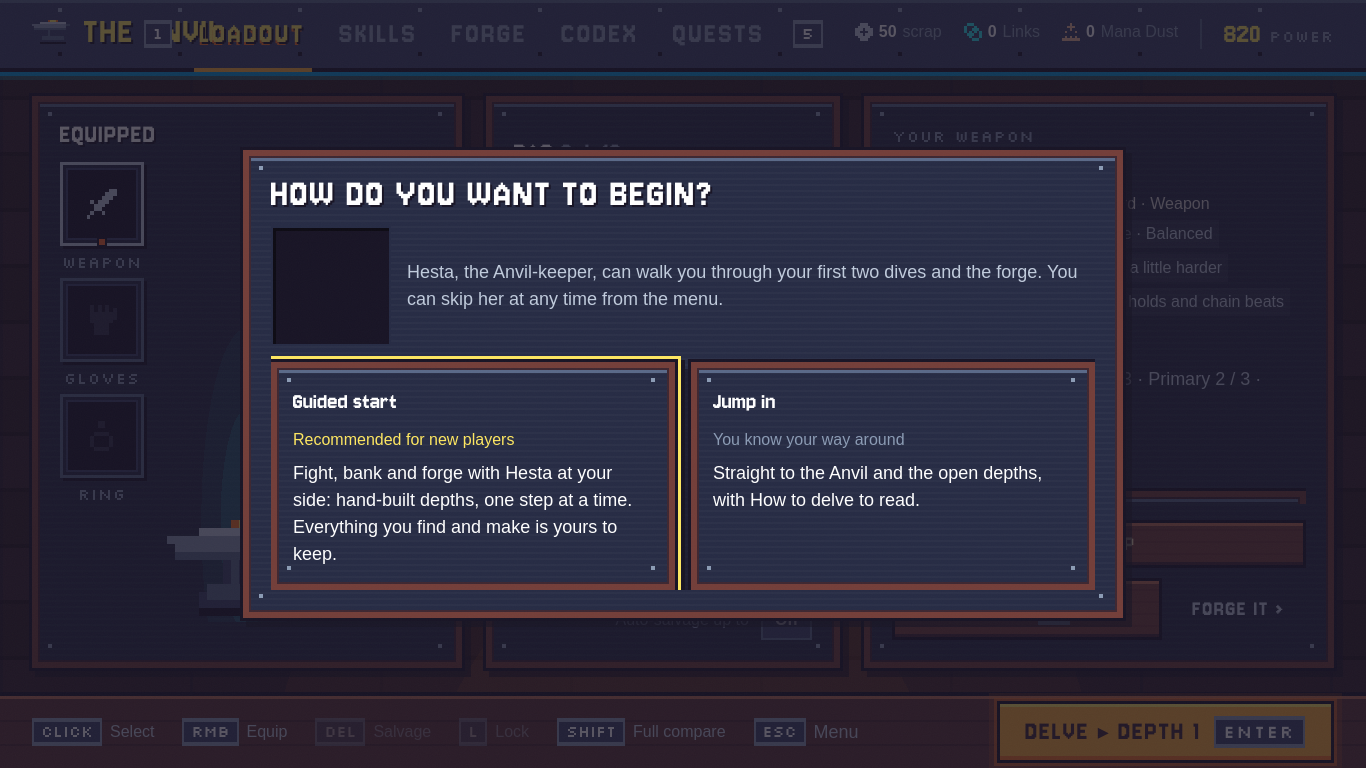
Test: GuidedChoice › Jump in leaves the save as it is and goes on to the mana choice, then How to delve
Step 1. Click the button with test id "guided-jump" → click(893, 476), box [691,362,1095,590]
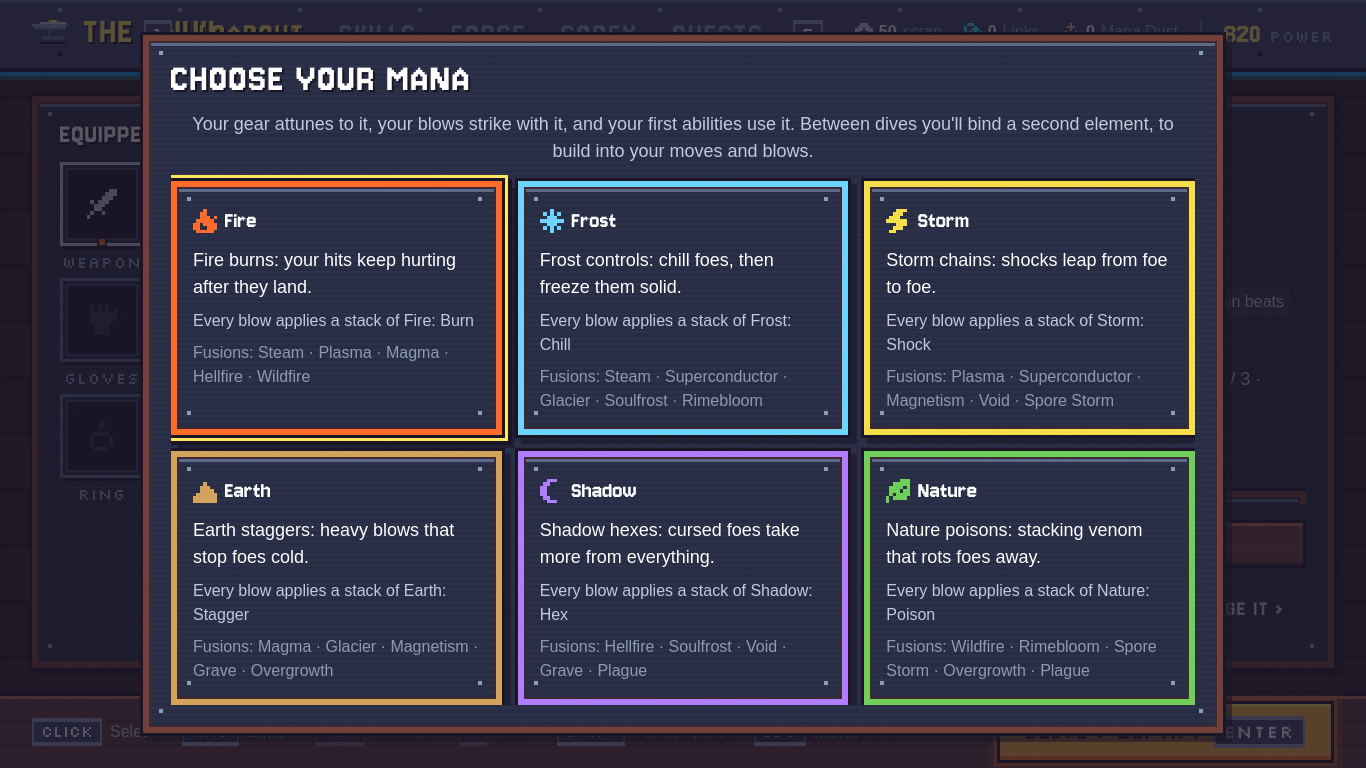
Check: the dialog with test id "guided-choice" is gone
Step 2. Click the button with test id "mana-choice-fire" → click(241, 220), box [171,181,502,435]
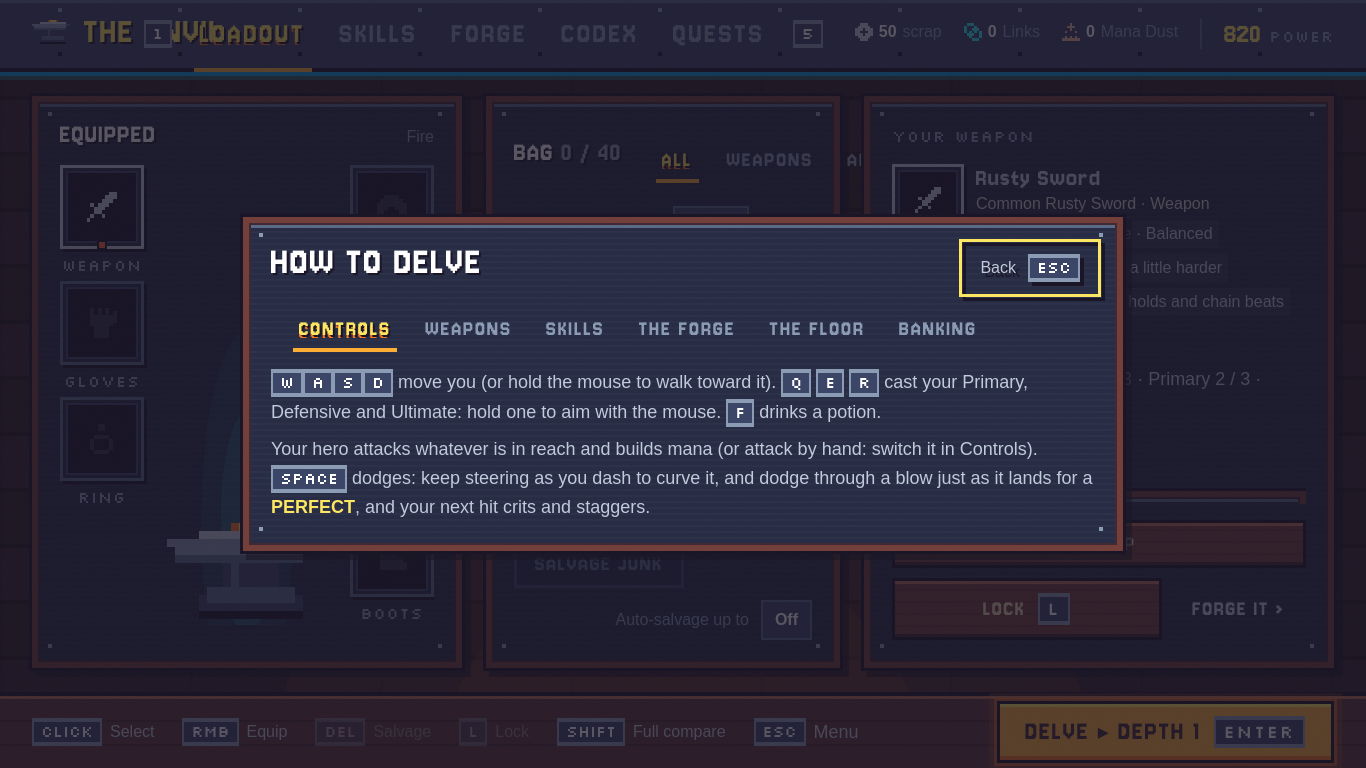
Check: the dialog with test id "help-dialog" is shown, box [243,217,1123,551]
Note: Closed, it stays closed: nothing more reopens it.
Step 3. Click the button "Back Esc" → click(1030, 268), box [965,245,1095,291]
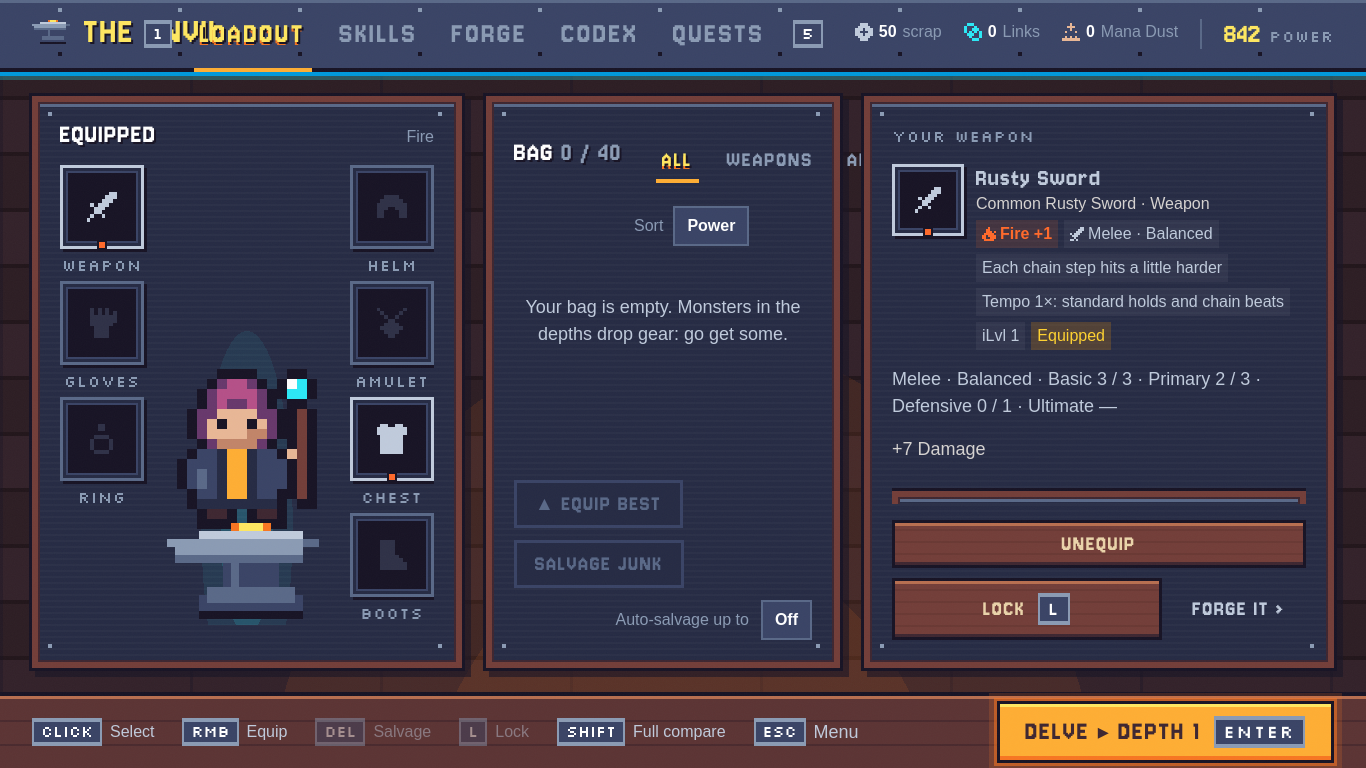
Check: the dialog with test id "help-dialog" is gone
